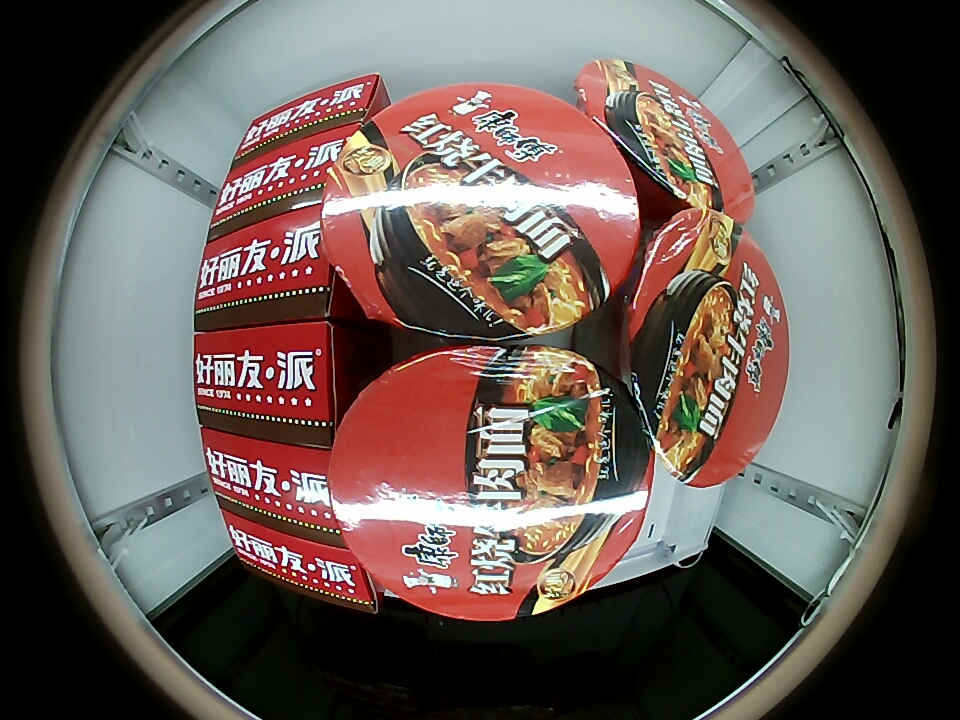haoliyou: (193, 320, 342, 442), (193, 204, 338, 328), (219, 502, 380, 611), (208, 124, 375, 229), (200, 432, 340, 534), (234, 74, 385, 163)
hongshaoniurou: (327, 343, 657, 619), (322, 82, 642, 340), (625, 208, 788, 488), (577, 59, 756, 218)
